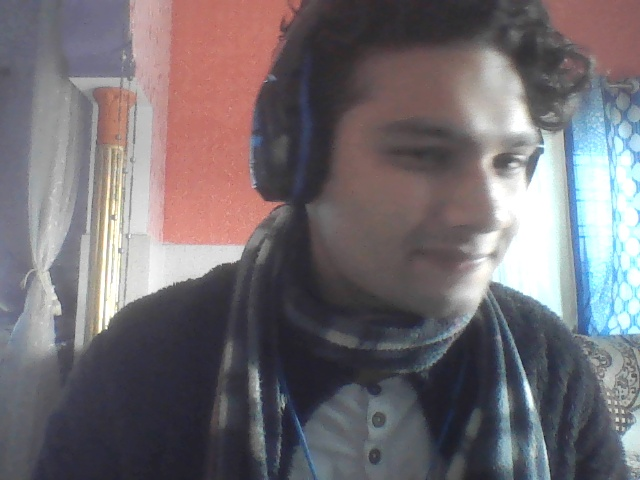real: (276, 0, 555, 396)
